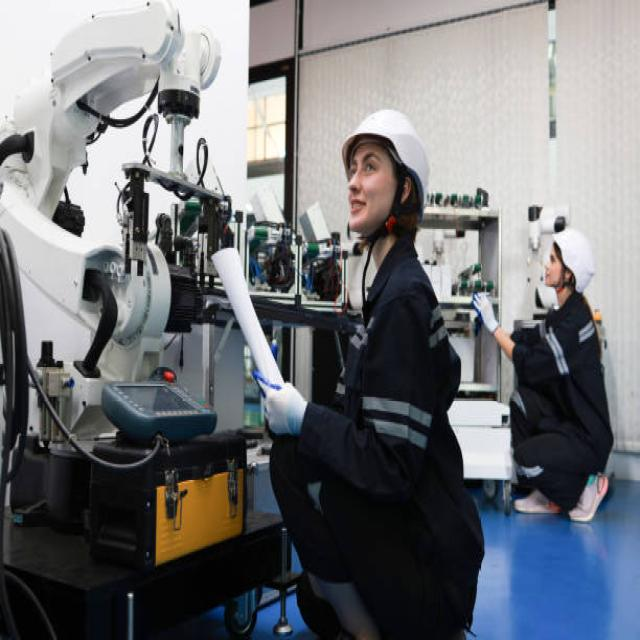Robotic-arm: (2, 0, 224, 399)
